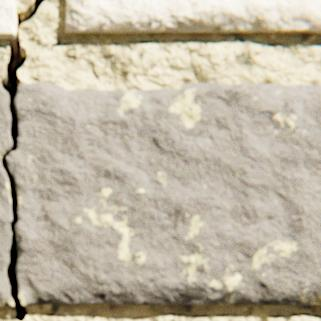brick: (0, 0, 15, 39)
broken_brick: (6, 84, 320, 306), (65, 0, 320, 34), (0, 85, 13, 306)
crack: (0, 0, 45, 320)
